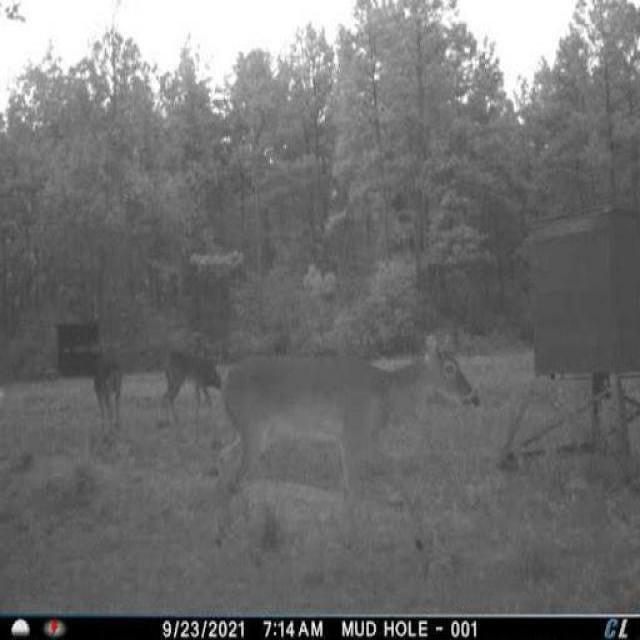deer: (219, 321, 495, 567), (162, 333, 222, 428), (90, 339, 130, 441)
